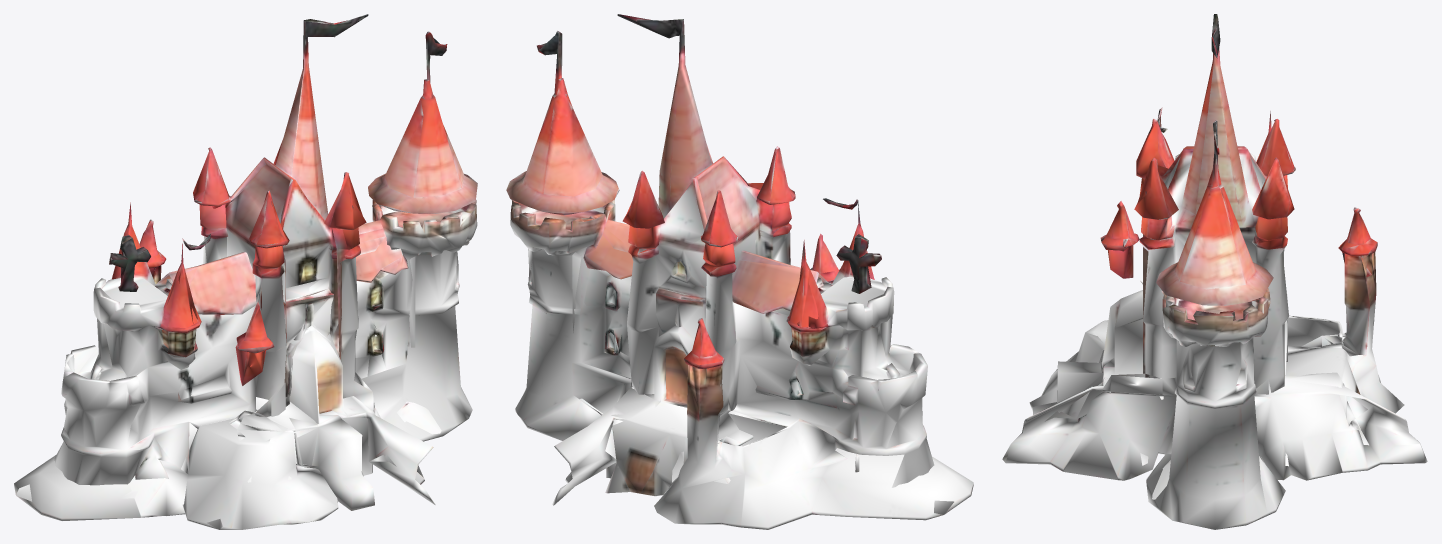
Rendered from castle_enemy.glb.
The picture shows the model from 3 angles, left to right: view 1: azimuth 30°, elevation 25°; view 2: azimuth 150°, elevation 25°; view 3: azimuth 270°, elevation 25°; orthographic projection. The views are drawn at different scales.
Bounding box in the file's own units: 1.91 × 1.72 × 1.53.
1 material, 1 textured.
